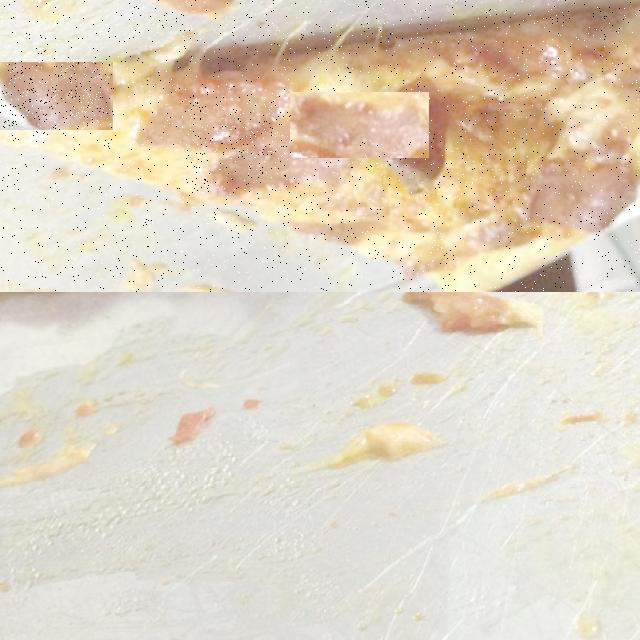Pepperoni: (359, 139, 506, 220), (185, 95, 292, 192), (290, 92, 429, 158), (0, 62, 113, 130)
Pizza: (0, 0, 640, 292)
